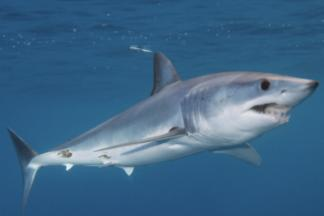Shark -Selachimorpha-: (0, 44, 324, 214)
